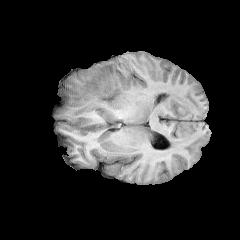glioma: (65, 64, 125, 116)
